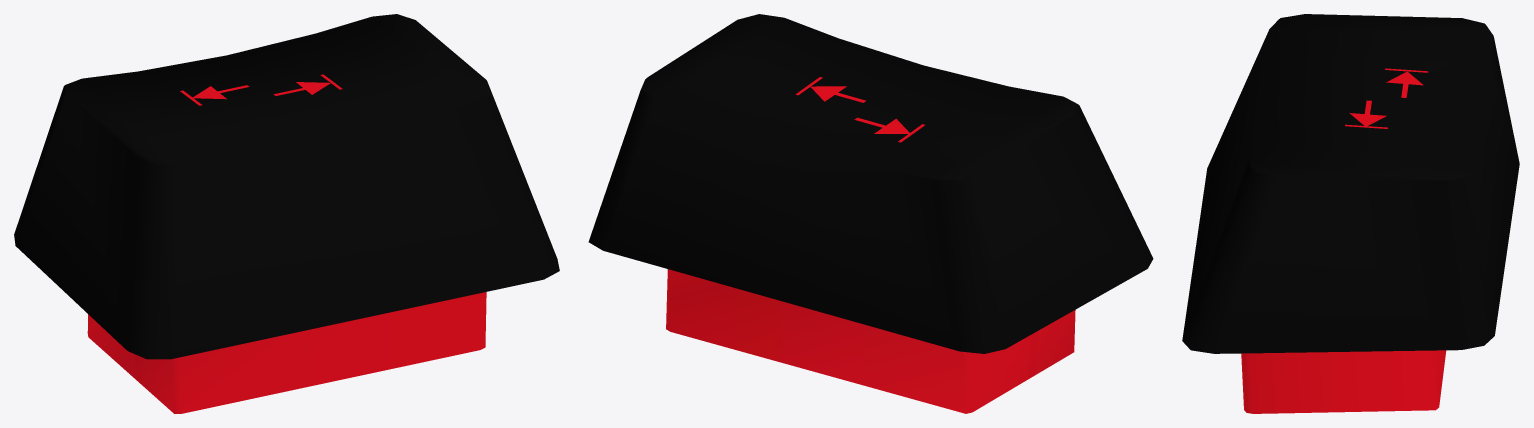
File: tab-7_UzgpVx.glb
3 views of the same model, side by side, from view 1: azimuth 30°, elevation 25°; view 2: azimuth 150°, elevation 25°; view 3: azimuth 270°, elevation 25° (orthographic). The views are drawn at different scales.
Parts seen in each view (by area): view 1: StudyShelf_1261; view 2: StudyShelf_1261; view 3: StudyShelf_1261.
Part boxes in pixels (x1,y1,x2,y2): StudyShelf_1261: [14, 14, 559, 413]; StudyShelf_1261: [588, 14, 1153, 413]; StudyShelf_1261: [1182, 14, 1519, 413].
Bounding box in the file's own units: 6.49 × 3.63 × 4.48.
2 materials, 1 textured.
